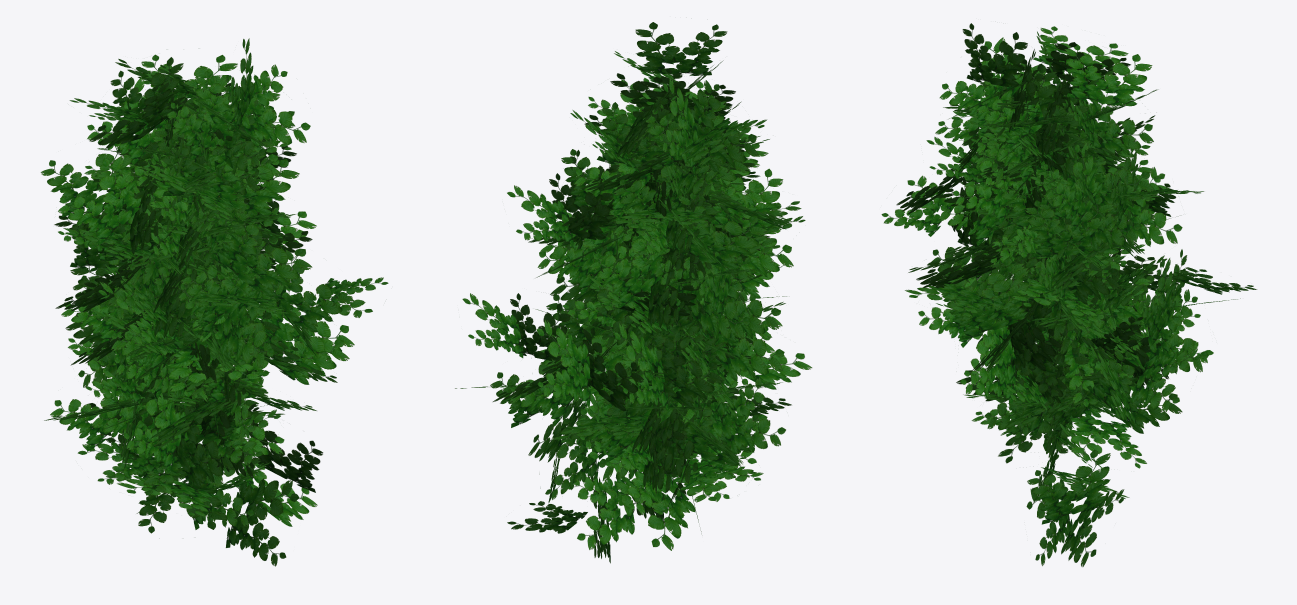
File: bush.glb
3 renders of one model, left to right at view 1: azimuth 30°, elevation 25°; view 2: azimuth 150°, elevation 25°; view 3: azimuth 270°, elevation 25°, orthographic. The views are drawn at different scales.
Visible parts, largest first — view 1: leaves; view 2: leaves; view 3: leaves.
Part boxes in pixels (left/top/right/bottom): leaves: left=40, top=38, right=388, bottom=566; leaves: left=455, top=22, right=812, bottom=563; leaves: left=881, top=23, right=1256, bottom=566.
Bounding box in the file's own units: 245 × 415 × 288.
Materials: 1 (1 with a texture image).
